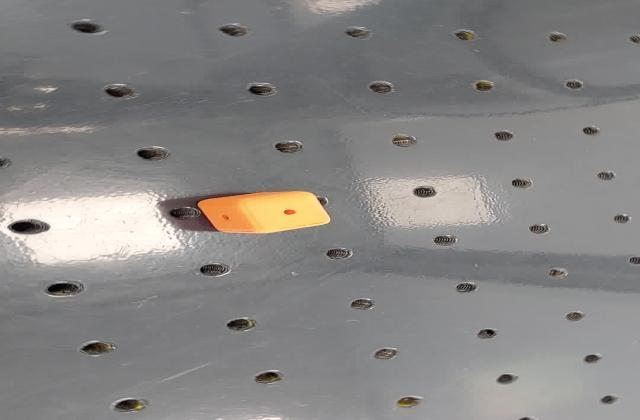cube: (190, 188, 336, 236)
